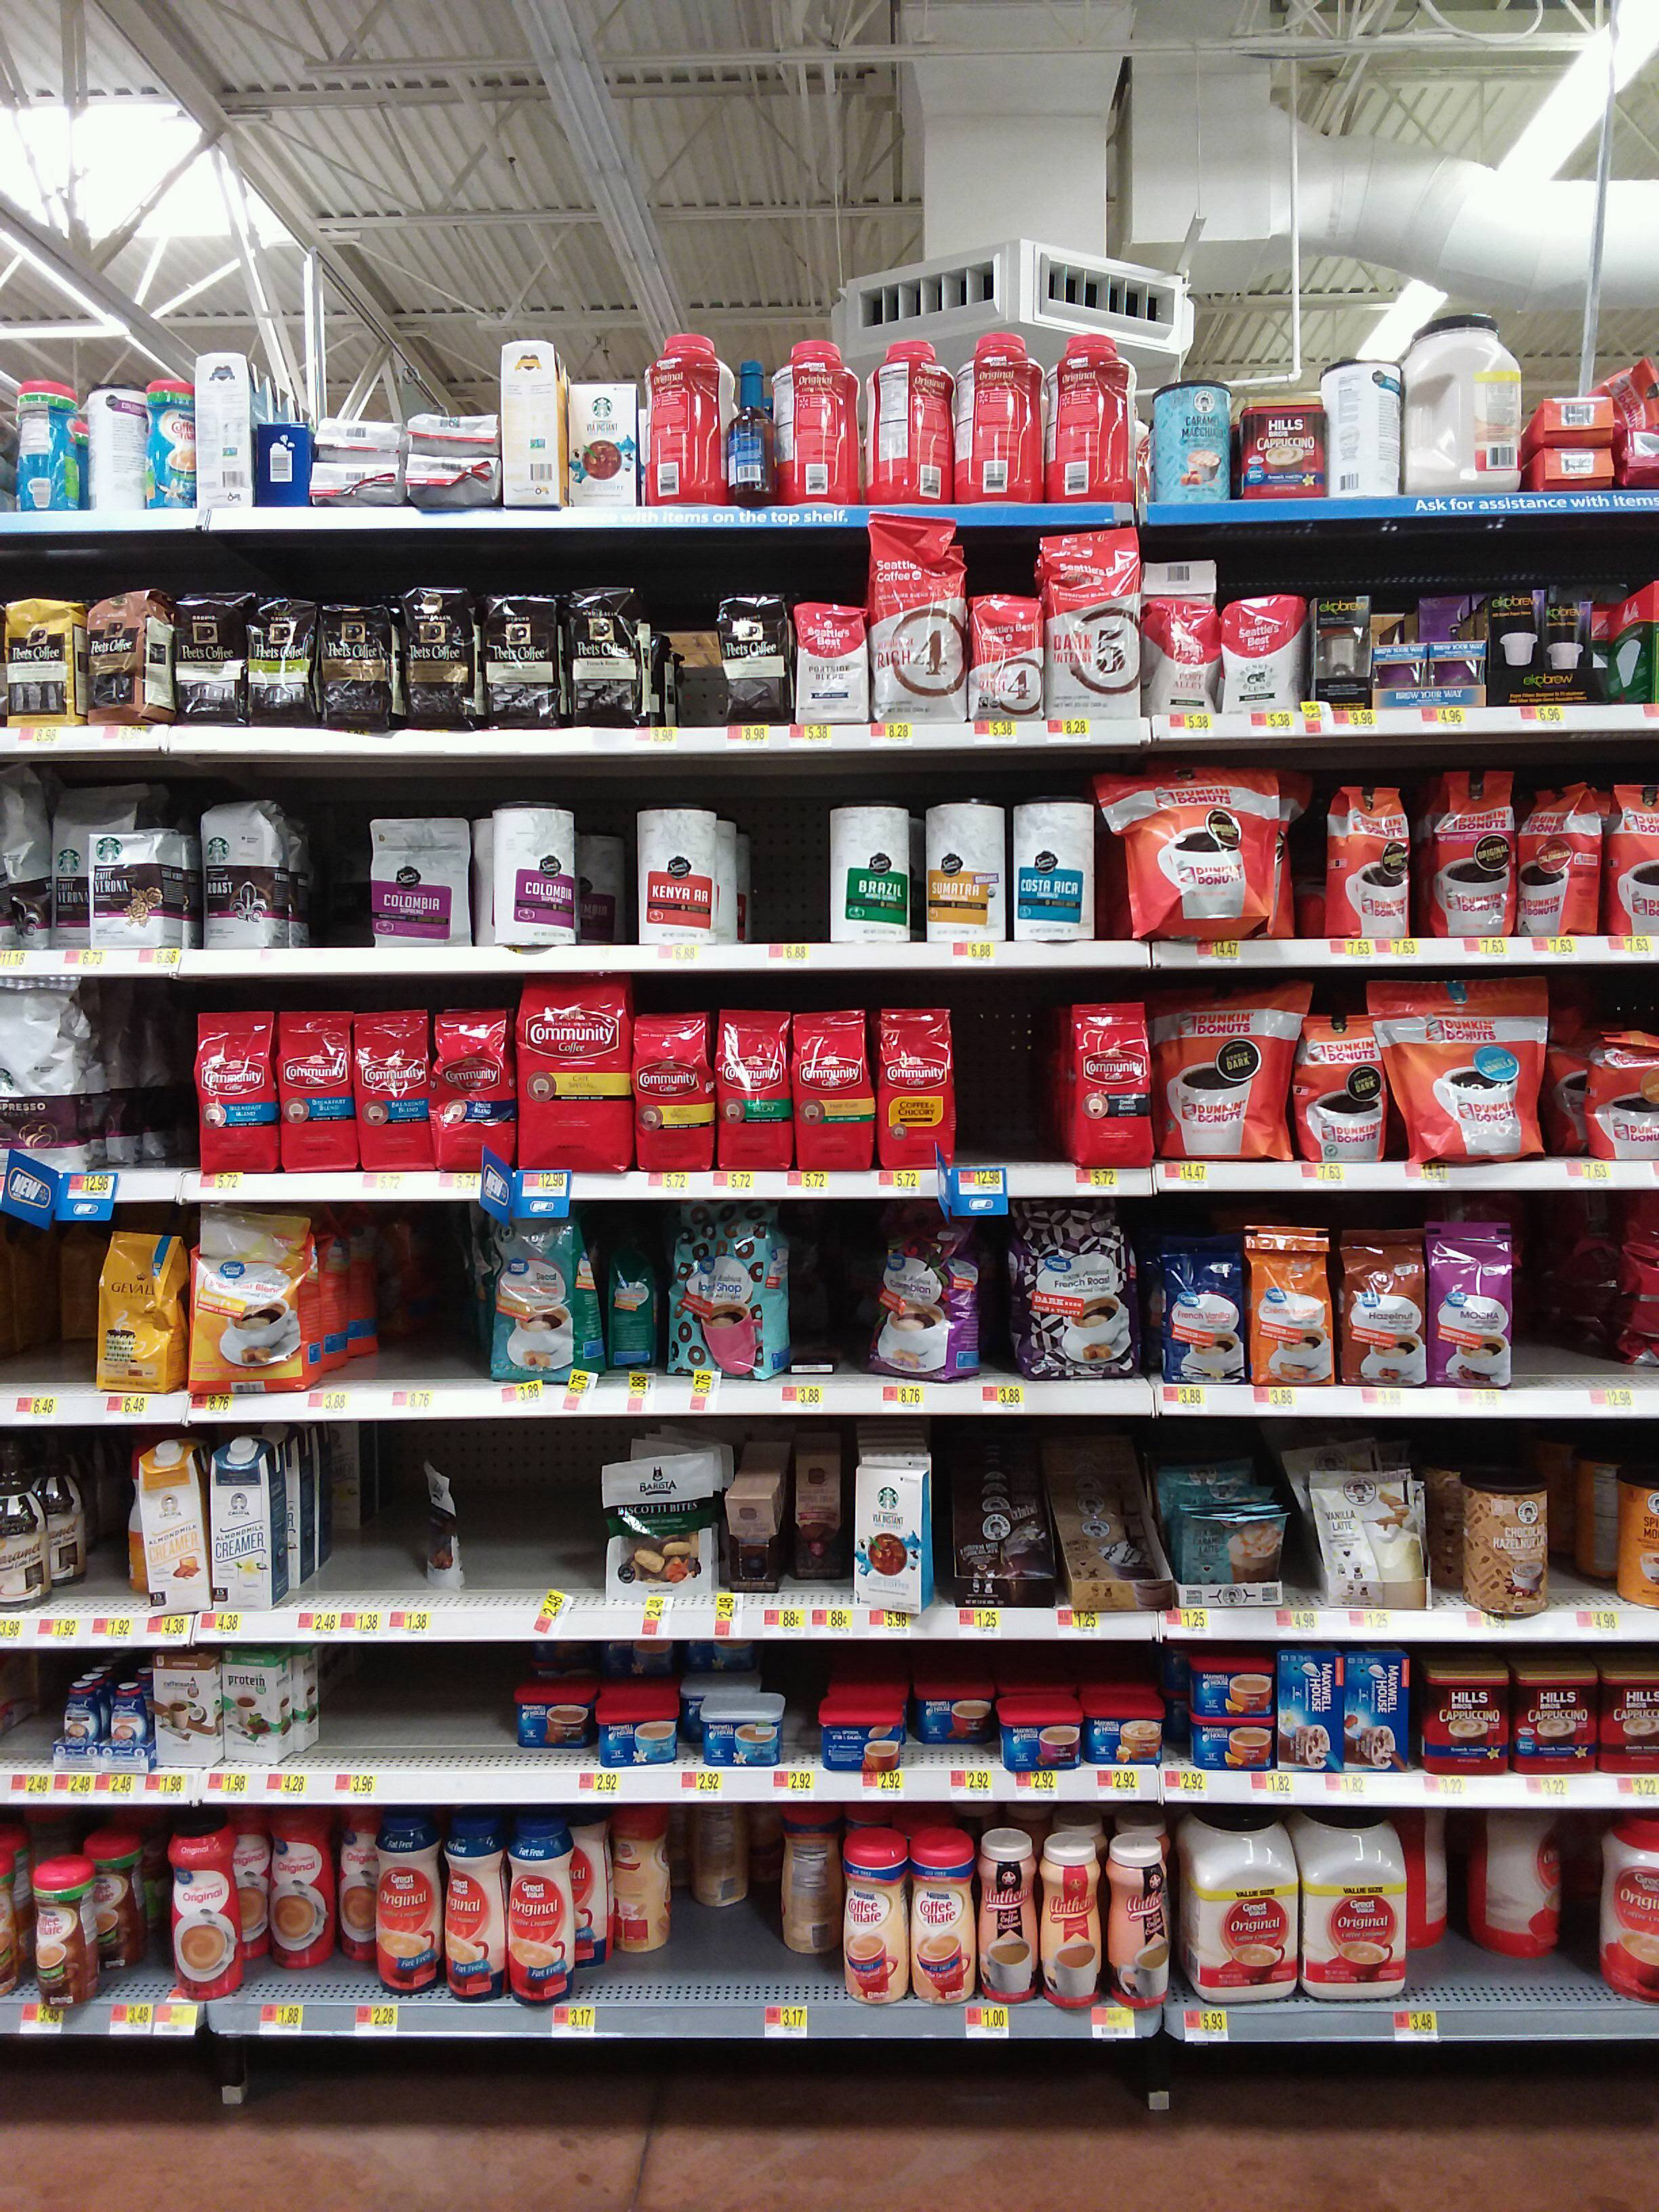Misplacement: (239, 1804, 376, 2005)
Out-of-stock: (957, 996, 1079, 1169)
